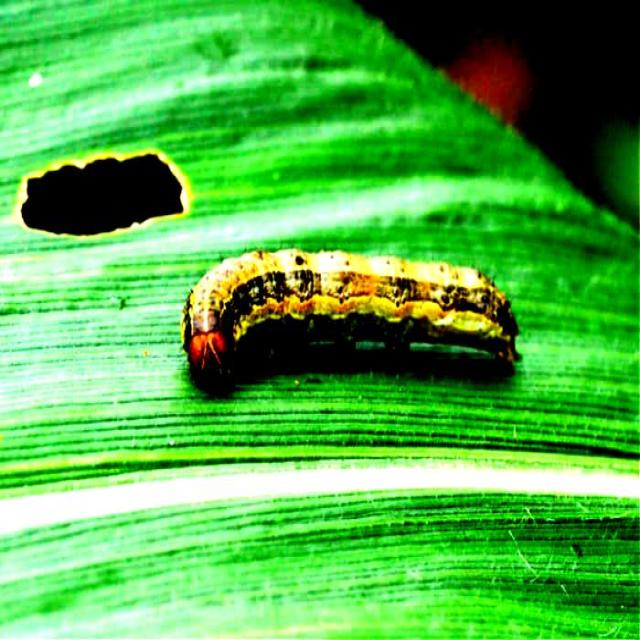armyworm: (179, 245, 521, 397)
